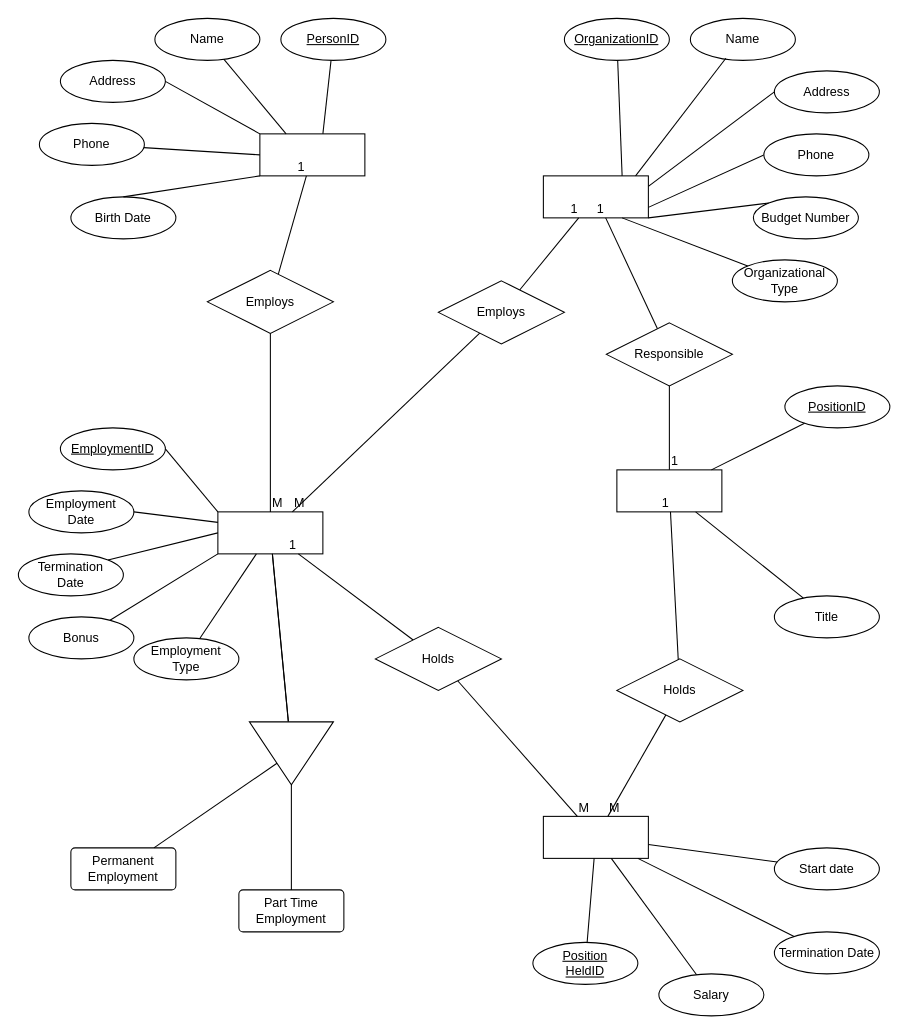
The diagram is 908 pixels wide and 1034 high, and some of its shapes have lost their labels. Here are the shapes that lost their labels. From the top down, the centre of each, then its label:
point 312,154: PERSON
point 595,196: ORGANIZATION
point 669,490: POSITION
point 270,532: EMPLOYEMENT
point 290,753: IS A
point 595,836: POSITION HELD
